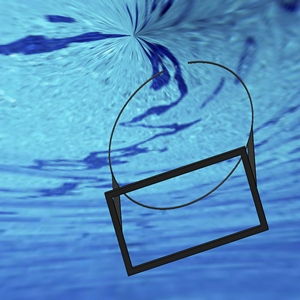circle: (101, 60, 270, 274)
